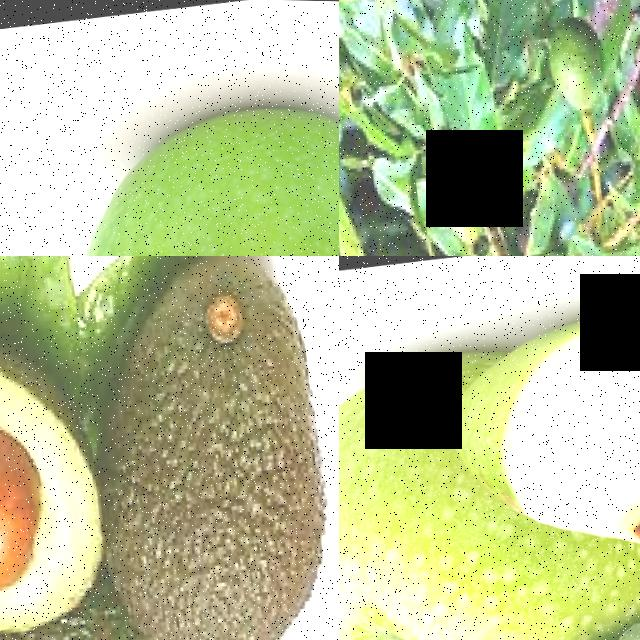apple: (423, 281, 640, 611), (33, 64, 339, 256), (339, 549, 640, 640)
avocado: (66, 256, 339, 640), (0, 256, 130, 640), (0, 563, 202, 640), (423, 120, 505, 256), (546, 19, 614, 123)
